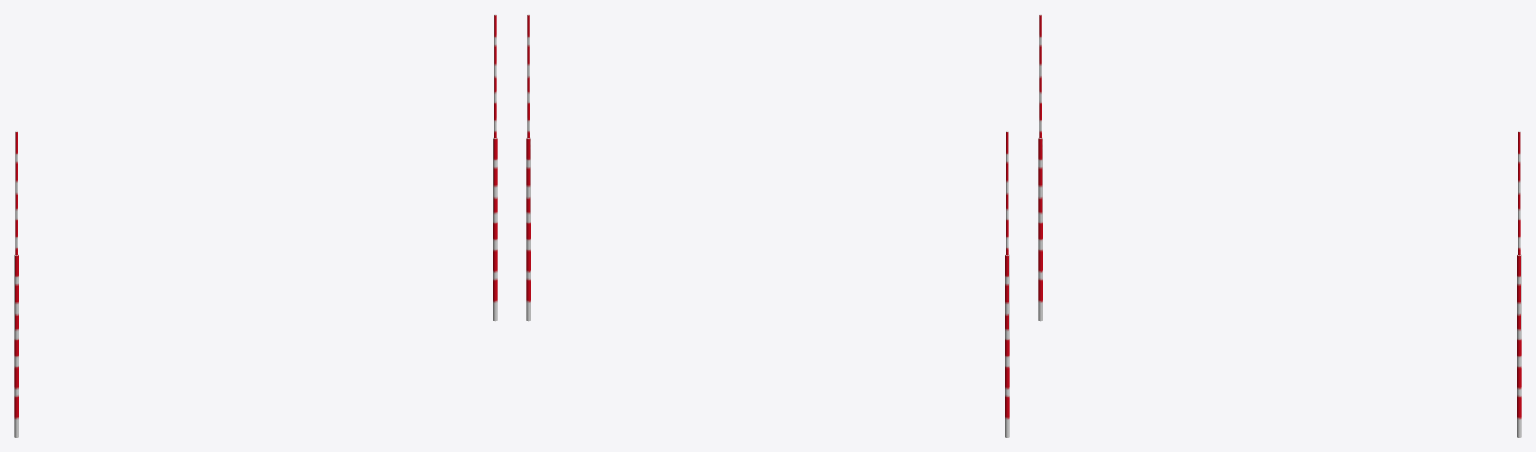
File: antenna.glb
3 renders of one model, left to right at view 1: azimuth 30°, elevation 25°; view 2: azimuth 150°, elevation 25°; view 3: azimuth 330°, elevation 25°, orthographic.
Visible parts, largest first — view 1: Cylinder.006; view 2: Cylinder.006; view 3: Cylinder.006.
Boxes of the visible parts, x1=… form: Cylinder.006: x1=14, y1=14, x2=497, y2=437; Cylinder.006: x1=526, y1=14, x2=1009, y2=437; Cylinder.006: x1=1038, y1=14, x2=1521, y2=437.
Size of the model in its own units: 147 by 89.11 by 1.27.
1 material, 1 textured.
